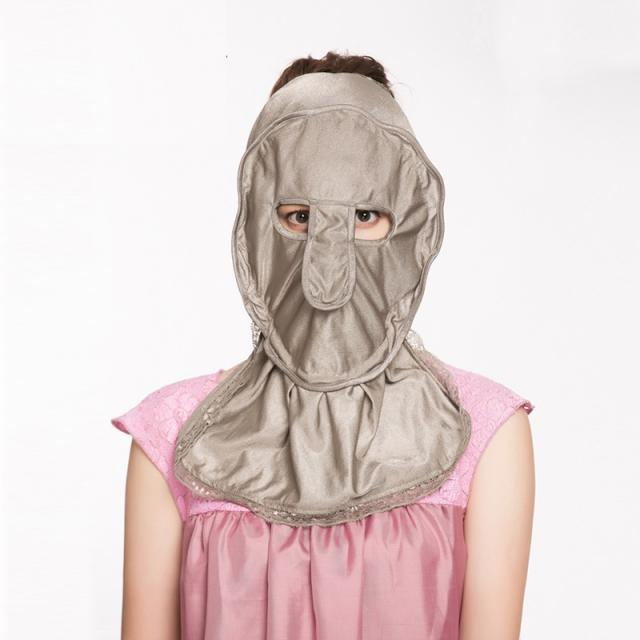mask: (258, 136, 410, 357)
